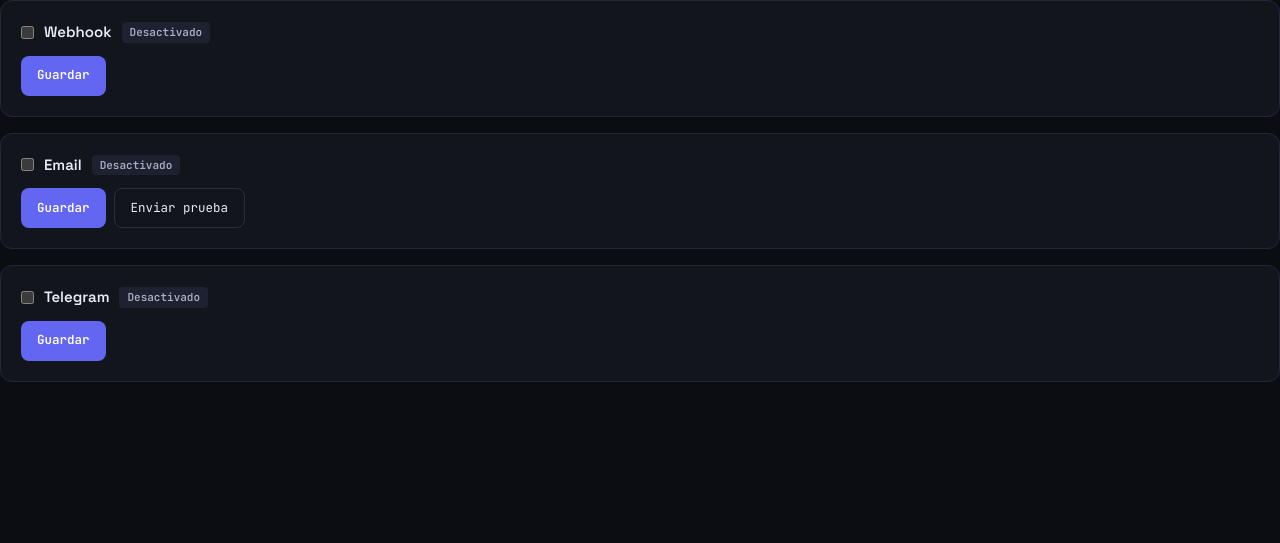
Scenario: ConfiguracionNotificaciones › toggle telegram habilita y muestra token y chatId
The image size is (1280, 543).
Check: the field labelled "bot token" is not shown
Click the checkbox named "habilitar telegram": coordinates (28, 297) 21,291 -> 34,304
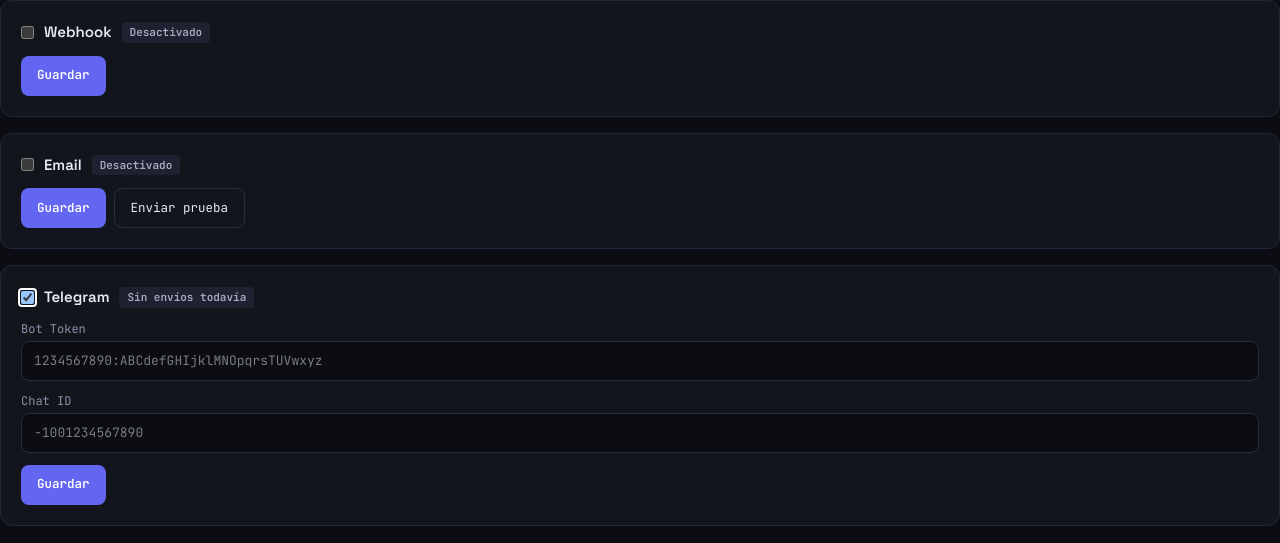
Check: the password field labelled "Bot Token" is shown, box 21,340 -> 1259,380
Check: the field labelled "Chat ID" is shown, box 21,412 -> 1259,452
